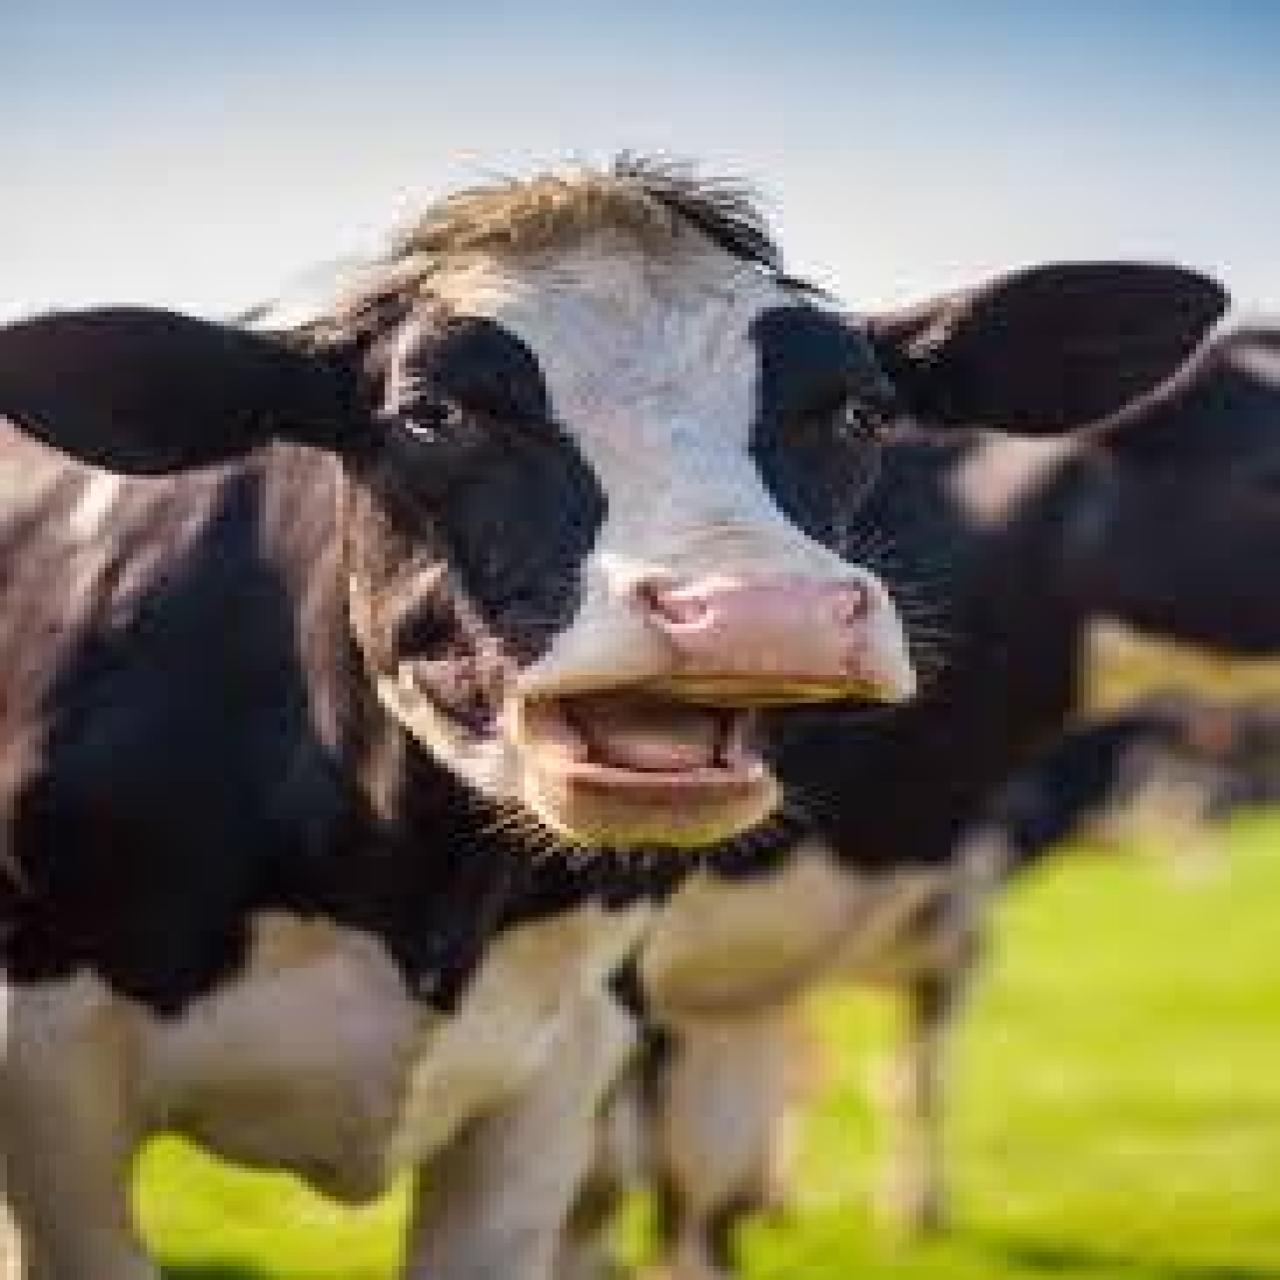cow: (0, 163, 1231, 1280), (552, 288, 1280, 1280)
